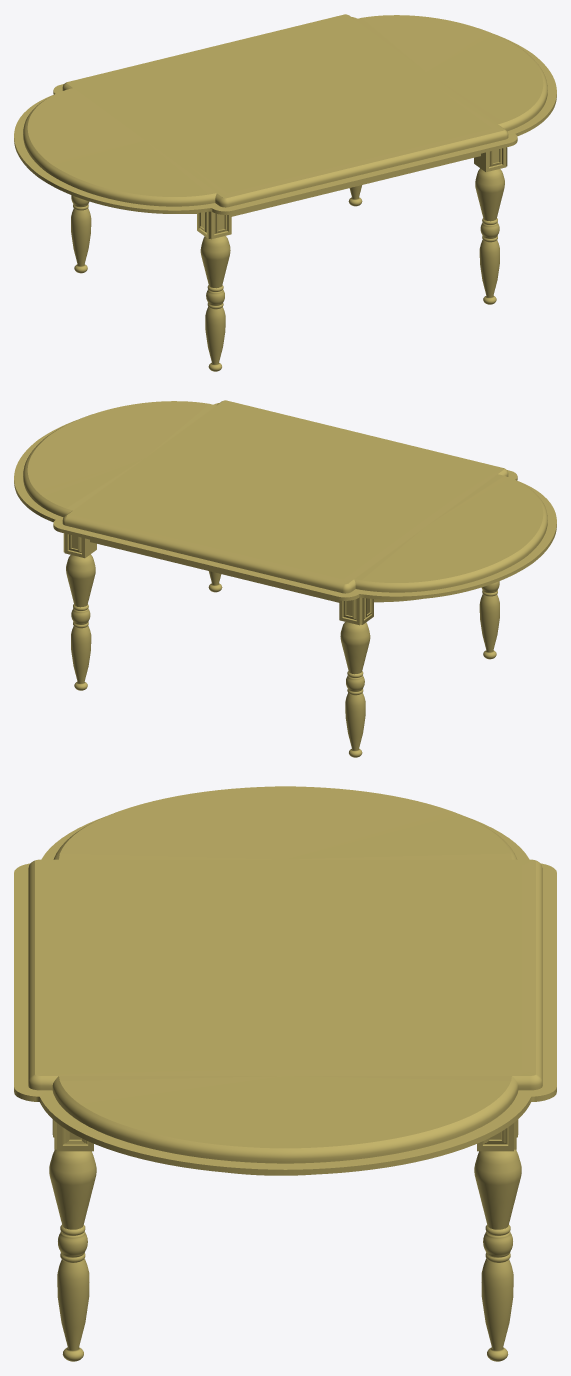
File: DiningSet_Gen_1_Table.fbx
3 views of the same model, one above another, from view 1: azimuth 30°, elevation 25°; view 2: azimuth 150°, elevation 25°; view 3: azimuth 270°, elevation 25° (orthographic). The views are drawn at different scales.
Parts seen in each view (by area): view 1: mesh_table; view 2: mesh_table; view 3: mesh_table.
Boxes of the visible parts, x1=… form: mesh_table: x1=14, y1=14, x2=556, y2=371; mesh_table: x1=14, y1=400, x2=556, y2=757; mesh_table: x1=14, y1=786, x2=556, y2=1361.
Bounding box in the file's own units: 249 × 87.39 × 150.
